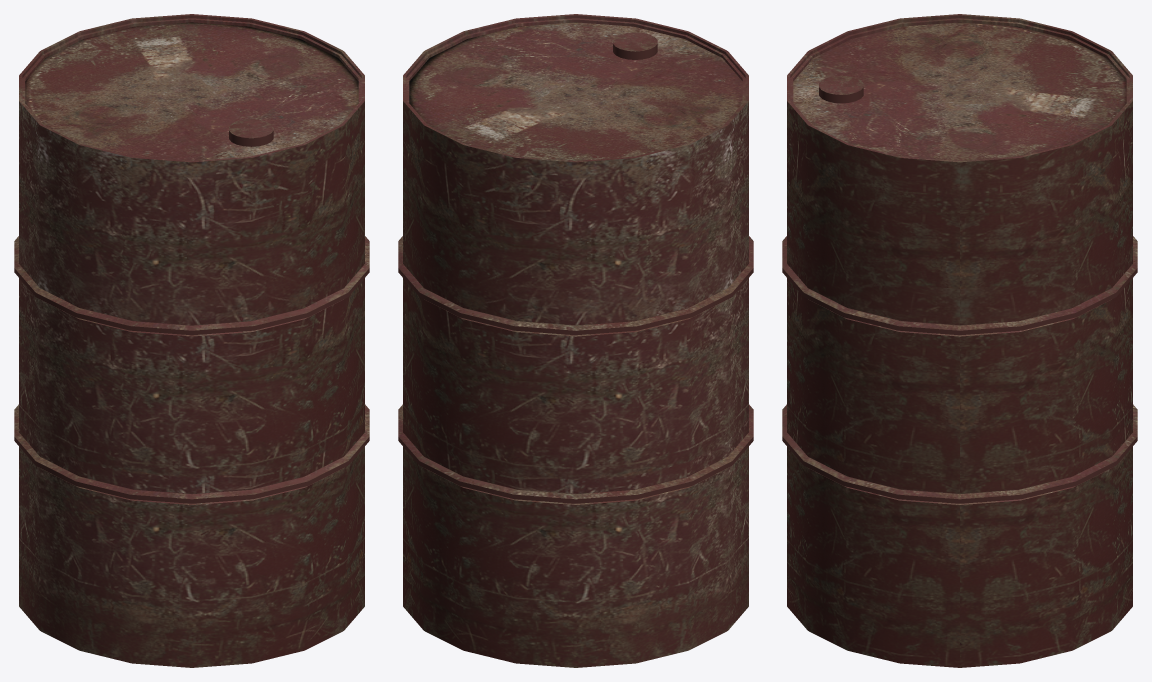
Rendered from O_BG_001_doramu_01_10.fbx.
The picture shows the model from 3 angles, left to right: view 1: azimuth 30°, elevation 25°; view 2: azimuth 150°, elevation 25°; view 3: azimuth 270°, elevation 25°; orthographic projection.
Visible parts, largest first — view 1: doramukan; view 2: doramukan; view 3: doramukan.
Boxes of the visible parts, bbox=[...] form: doramukan: bbox=[14, 14, 369, 667]; doramukan: bbox=[398, 14, 753, 667]; doramukan: bbox=[782, 14, 1137, 667].
Size of the model in its own units: 22.67 by 35.24 by 22.33.
